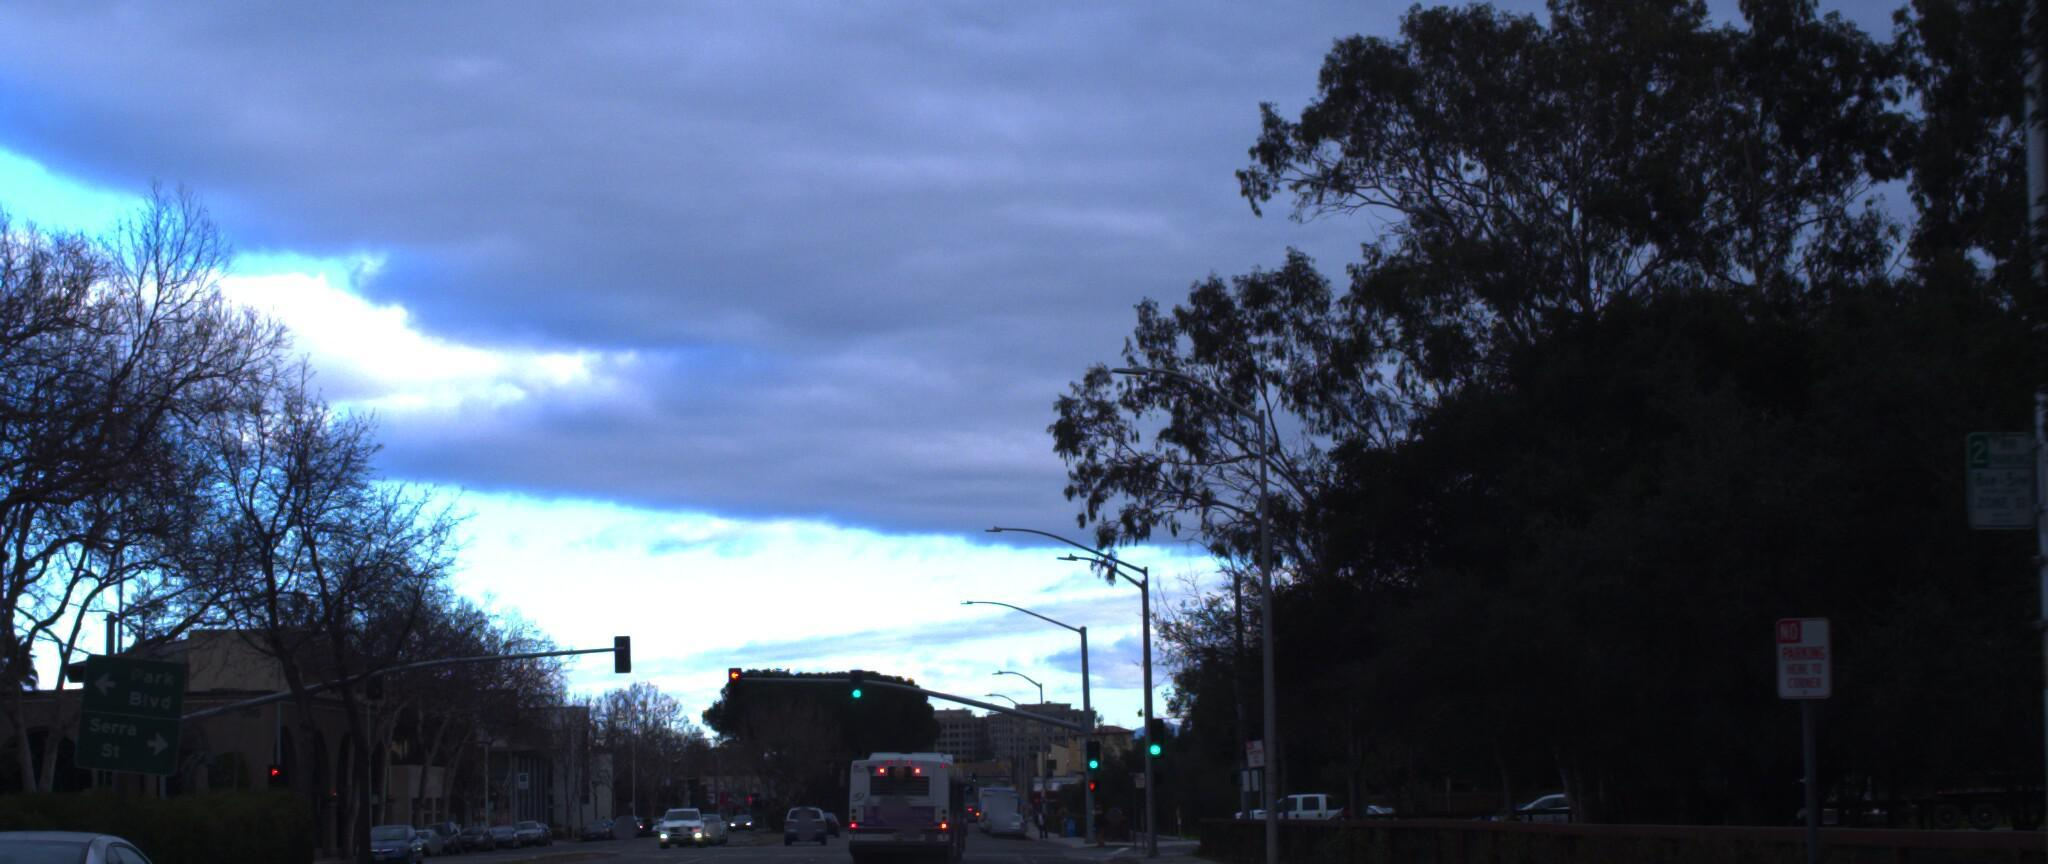bus: (820, 735, 953, 861)
car: (0, 814, 231, 864)
